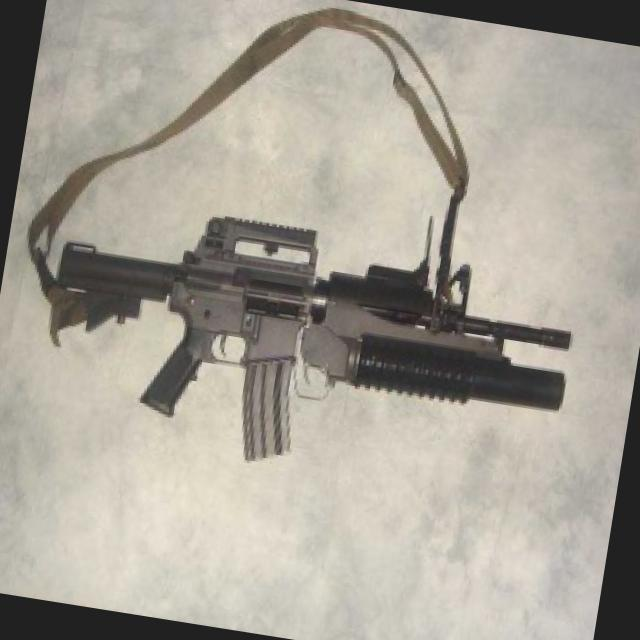long weapon: (26, 156, 604, 470)
